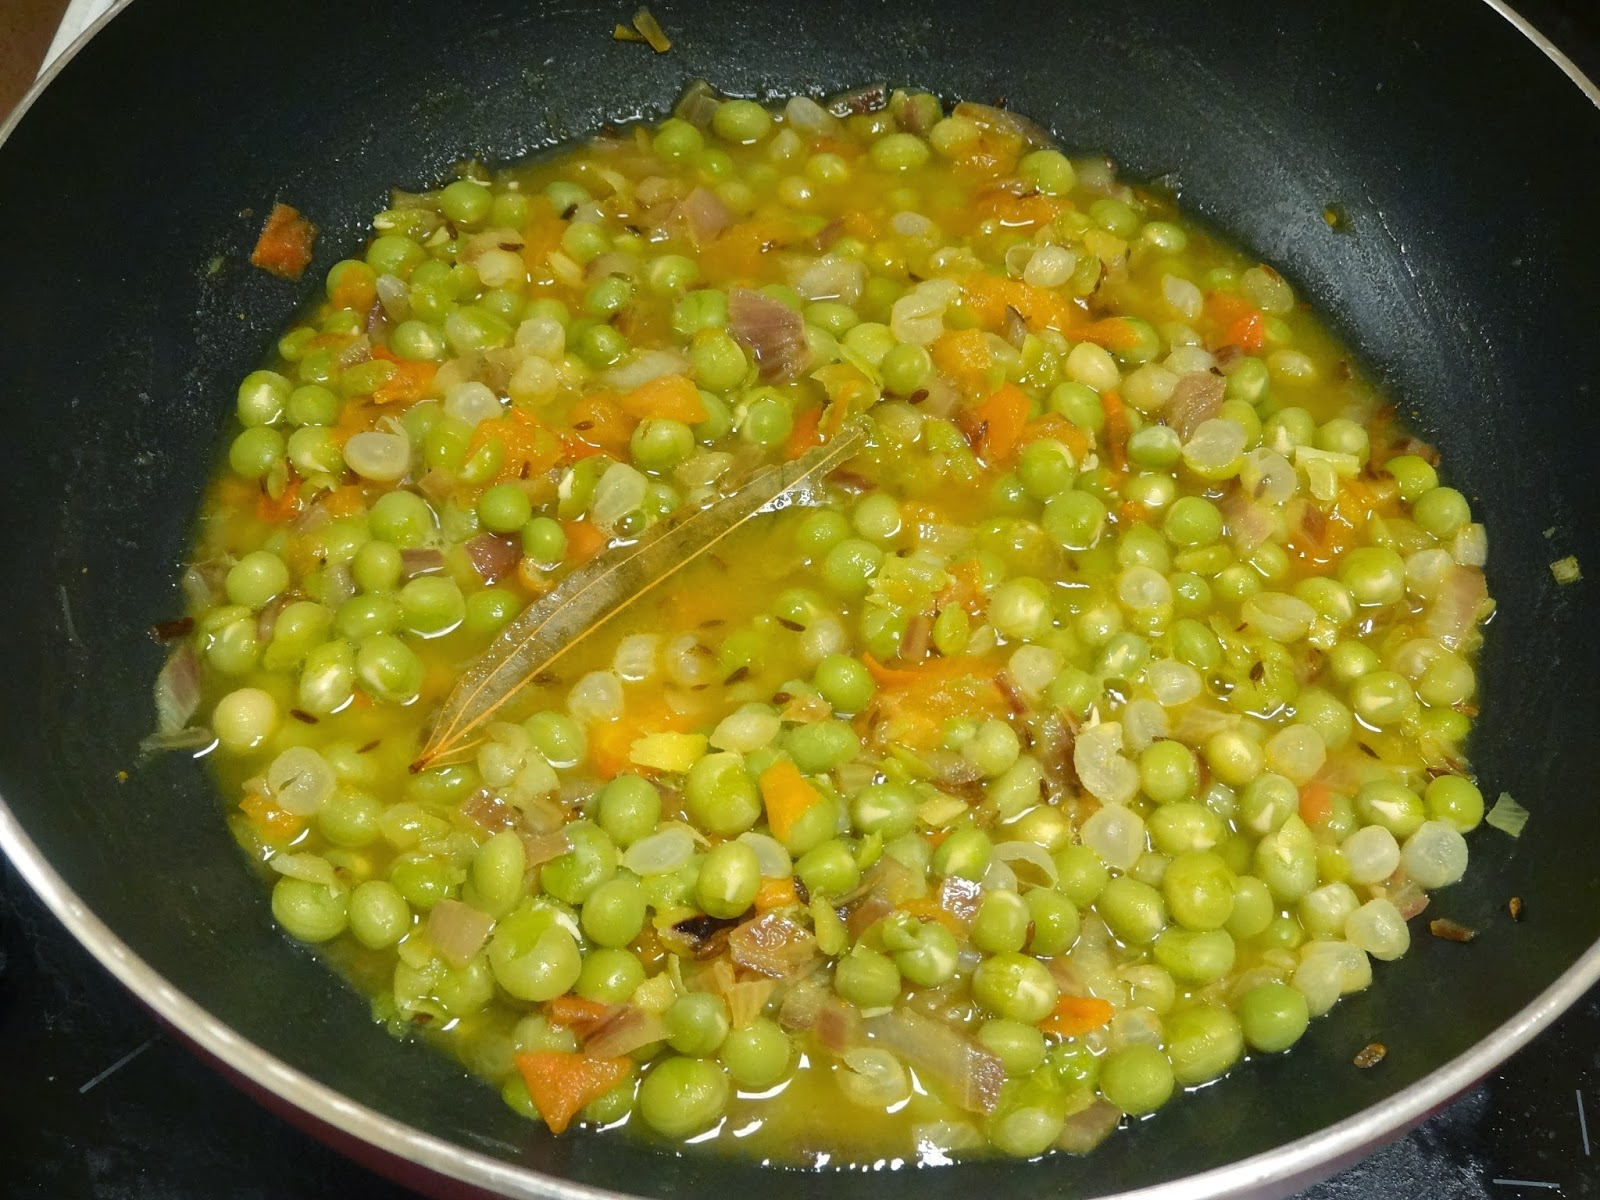boiled peas: (552, 776, 752, 908)
